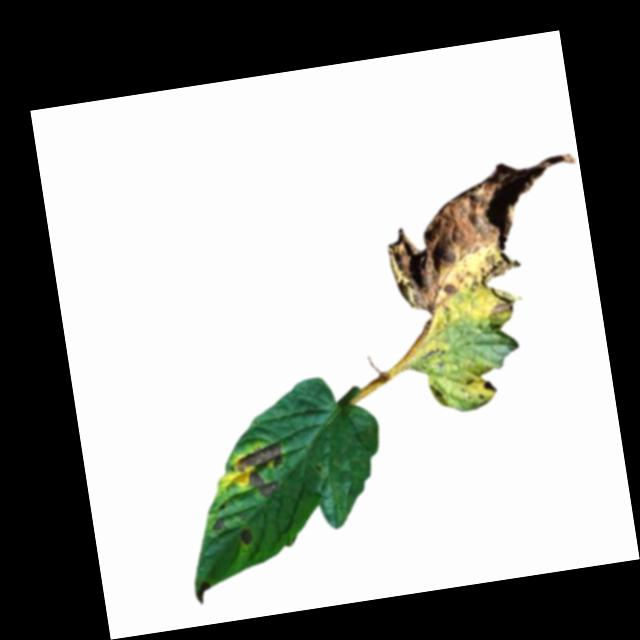Early_blight: (376, 149, 598, 332), (232, 439, 289, 501), (193, 579, 212, 606), (238, 523, 255, 547), (483, 375, 498, 393), (209, 516, 226, 531)
